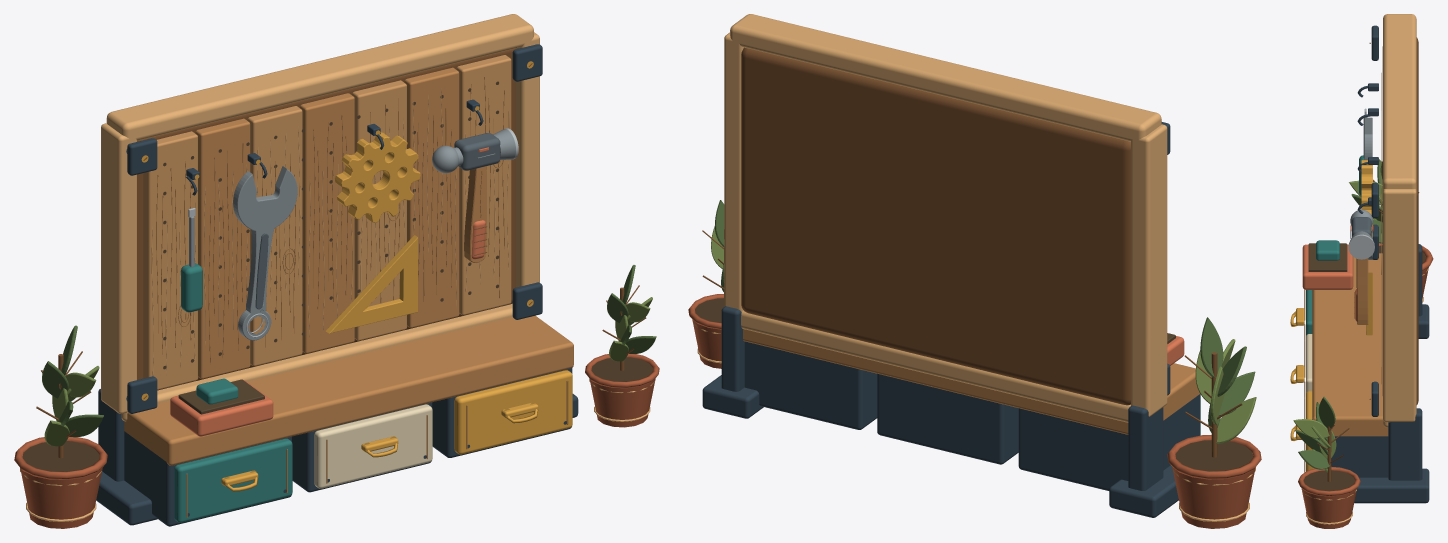
File: before-medium-triangle.glb
3 renders of one model, left to right at view 1: azimuth 30°, elevation 25°; view 2: azimuth 150°, elevation 25°; view 3: azimuth 270°, elevation 25°, orthographic. The views are drawn at different scales.
Visible parts, largest first — view 1: timber, plank, edge, brass, navy, teal, pot, cream, grain, steel, darkWood, grainLight (+6 smaller); view 2: darkWood, edge, navy, pot, timber, leaf, leafLight, soil; view 3: edge, timber, navy, pot, brass, leaf, darkWood, coral, leafLight, teal, soil, shadow (+6 smaller).
Part boxes in pixels (left/top/right/bottom): timber: left=124, top=67, right=573, bottom=465; plank: left=143, top=55, right=511, bottom=389; edge: left=20, top=14, right=654, bottom=521; brass: left=141, top=61, right=572, bottom=491; navy: left=96, top=44, right=578, bottom=526; teal: left=174, top=263, right=292, bottom=522; pot: left=14, top=353, right=659, bottom=528; cream: left=314, top=404, right=432, bottom=488; grain: left=156, top=77, right=568, bottom=517; steel: left=189, top=129, right=515, bottom=340; darkWood: left=36, top=48, right=646, bottom=458; grainLight: left=151, top=88, right=509, bottom=375; darkWood: left=702, top=47, right=1242, bottom=457; edge: left=693, top=14, right=1255, bottom=521; navy: left=702, top=122, right=1200, bottom=517; pot: left=688, top=294, right=1261, bottom=528; timber: left=743, top=329, right=1200, bottom=434; leaf: left=715, top=200, right=1255, bottom=432; leafLight: left=711, top=226, right=1256, bottom=443; soil: left=695, top=298, right=1253, bottom=471; edge: left=1302, top=14, right=1428, bottom=524; timber: left=1312, top=68, right=1388, bottom=436; navy: left=1317, top=25, right=1429, bottom=503; pot: left=1298, top=243, right=1433, bottom=528; brass: left=1290, top=160, right=1372, bottom=471; leaf: left=1295, top=159, right=1382, bottom=469; darkWood: left=1312, top=37, right=1419, bottom=481; coral: left=1302, top=225, right=1373, bottom=321; leafLight: left=1293, top=180, right=1382, bottom=472; teal: left=1306, top=155, right=1364, bottom=335; soil: left=1303, top=245, right=1426, bottom=490; shadow: left=1308, top=243, right=1347, bottom=271.
Size of the model in its own units: 2.04 by 1.25 by 0.5082.
